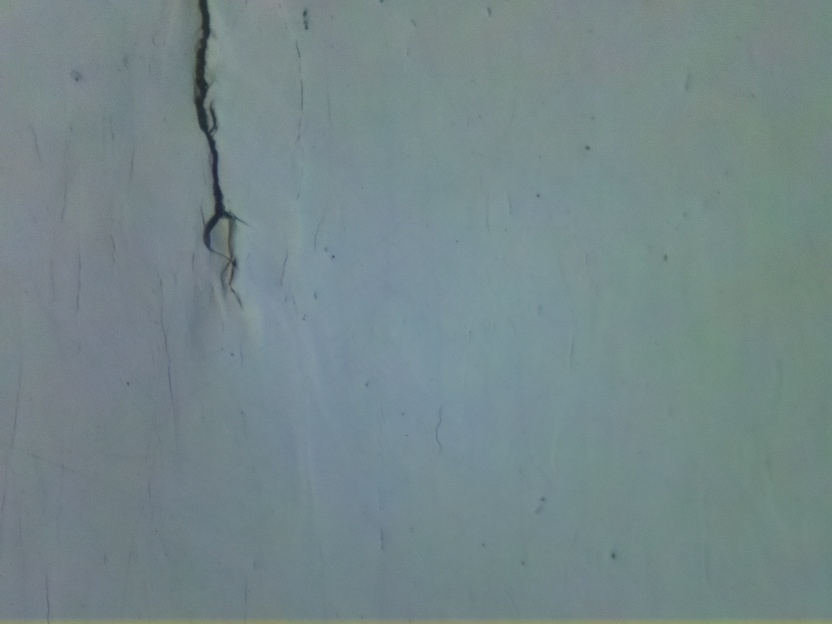crack: (189, 0, 249, 293)
